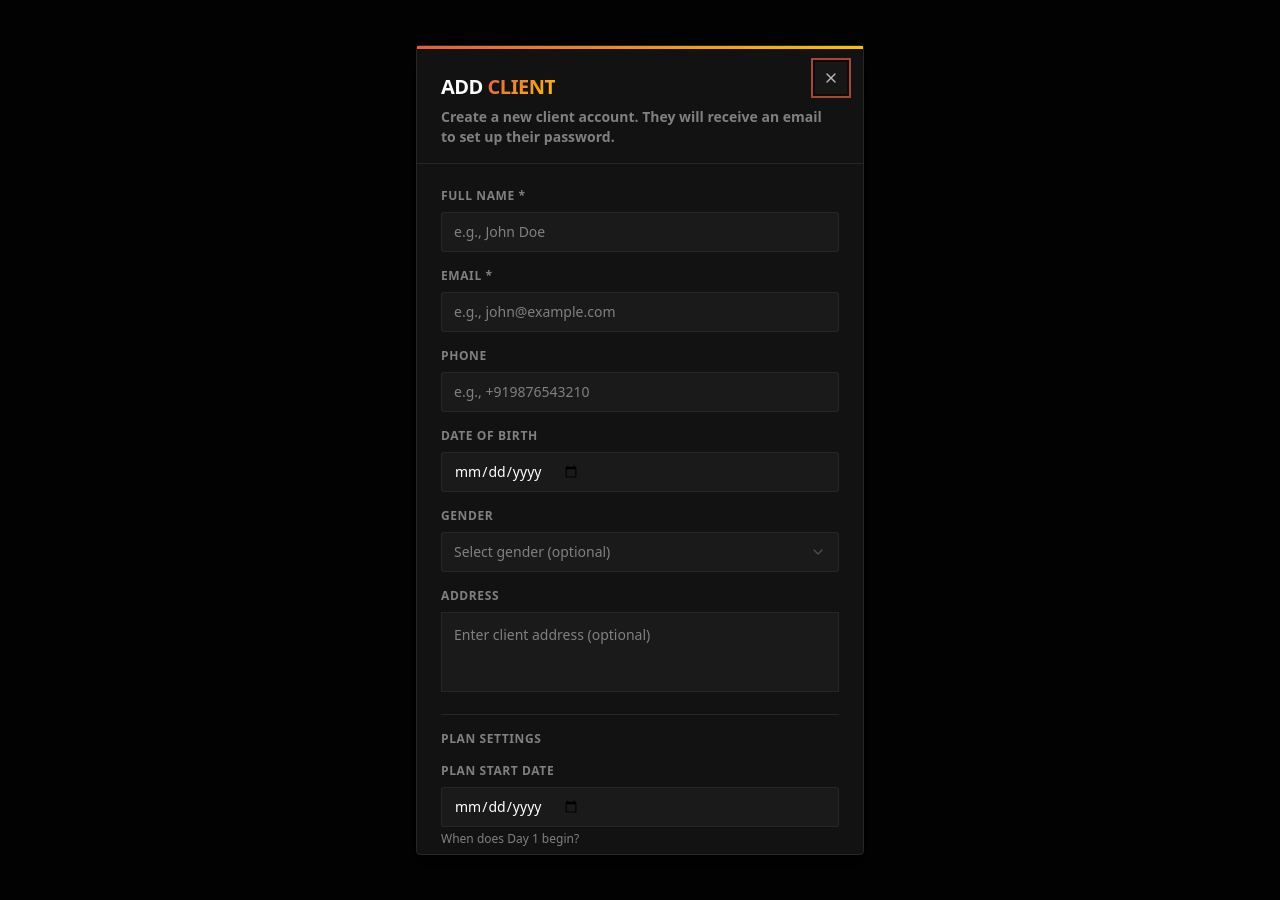
AddClientModal Component › Form Validation › shows error when full name is empty
The width and height of the screenshot is (1280, 900).
Fill in email only and submit
Type "test@example.com" into the field labelled "Email *" at (640,312), box [441,292,839,332]
(page scrolled)
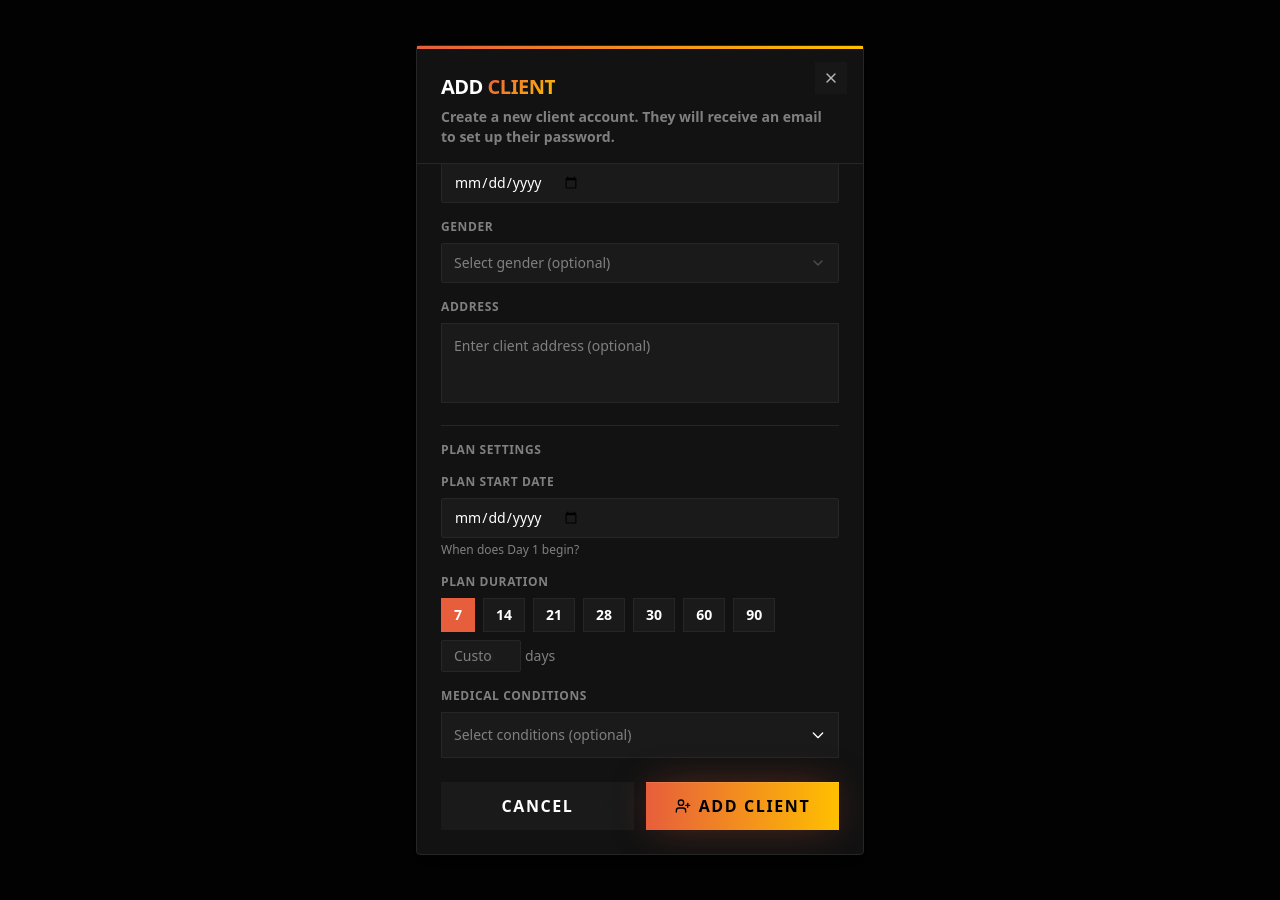
Click the button "Add Client" at (742,806), box [646,782,839,830]
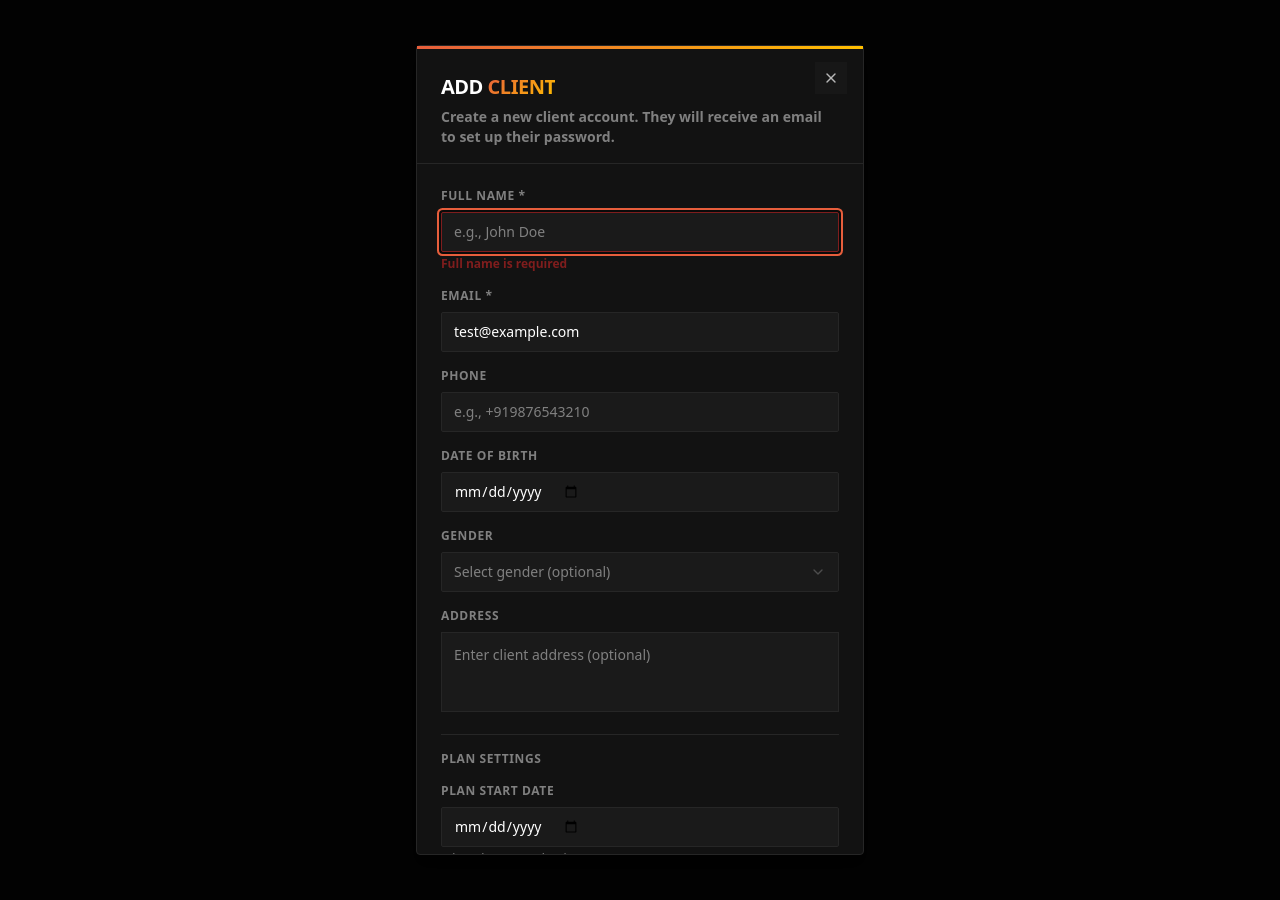
Expected: the text "Full name is required" is shown, [441,255,567,272]
